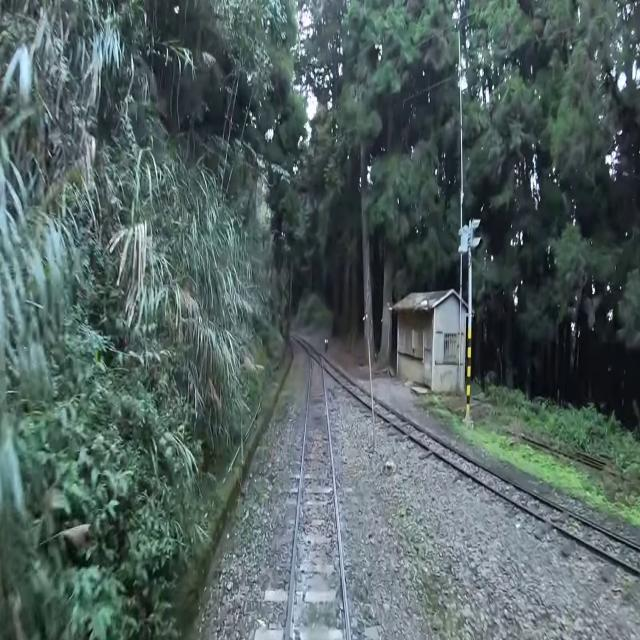rail-track: (373, 401, 640, 566), (291, 360, 345, 639), (323, 360, 370, 402)
